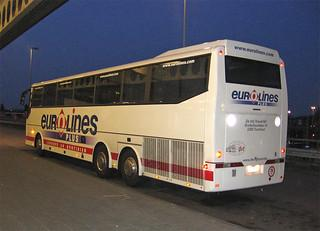bus: (23, 35, 296, 200)
